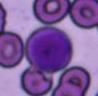L: (26, 27, 72, 72)
